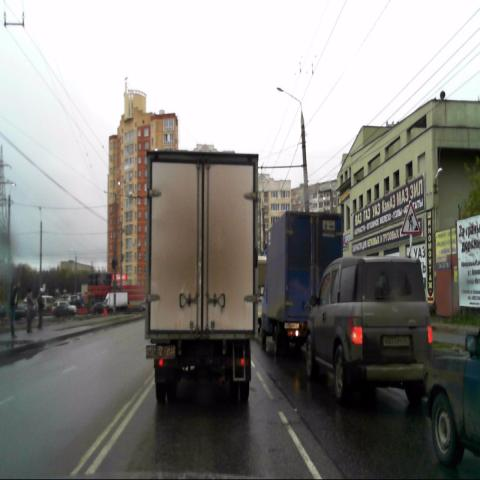1_25: (401, 202, 421, 235)
